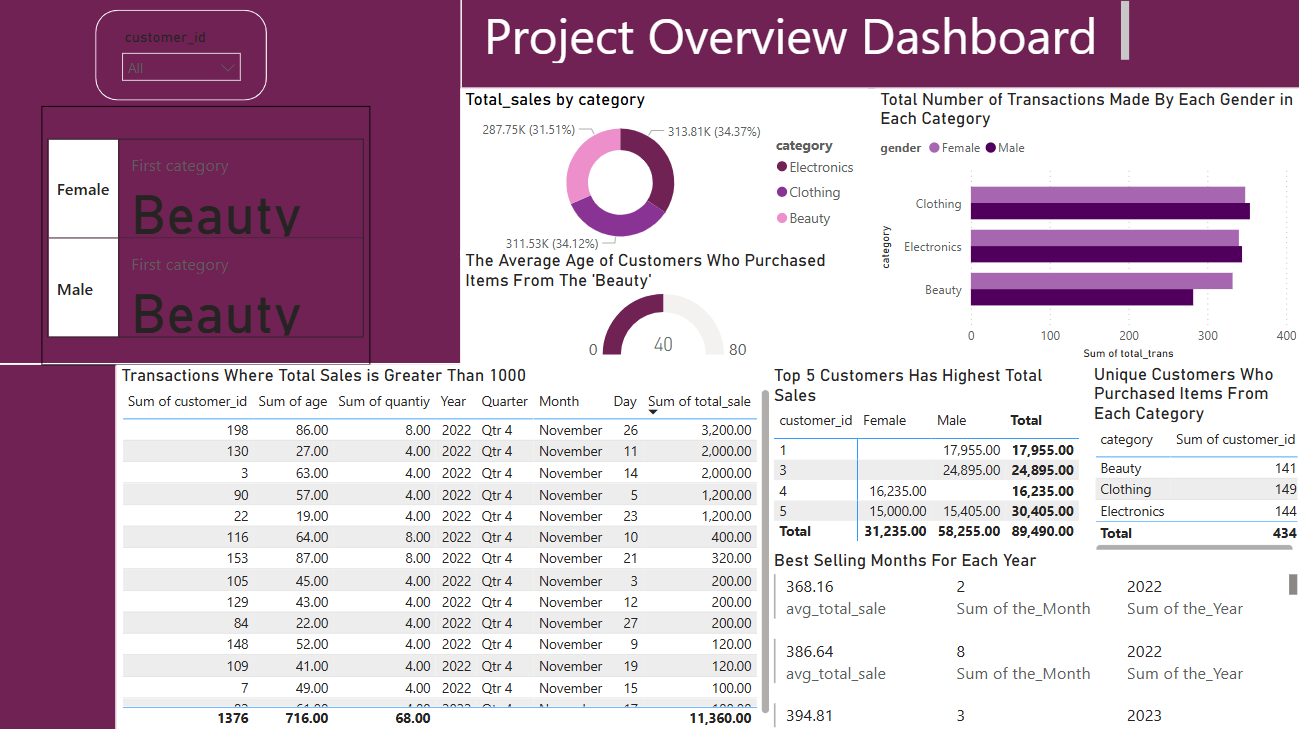

The page's visual inventory and layout, read from the dashboard file:
{"tool":"powerbi","page":{"name":"Dashboard","canvas":[1280,720],"ordinal":0},"visuals":[{"type":"shape","box":[0,0,119.7,720.7],"z":0},{"type":"shape","box":[0,0,1280,90.4],"z":1000},{"type":"shape","box":[0,0,457.7,360.3],"z":2000},{"type":"shape","box":[98.8,13.9,168.3,89],"z":3000},{"type":"slicer","fields":{"Values":["All Data.customer_id"]},"box":[115.5,26.4,136.3,64],"z":4000},{"type":"cardVisual","fields":{"Data":["Min(All Data.category)"],"Rows":["All Data.gender"]},"box":[45.9,107.1,321.4,253.2],"z":5000},{"type":"textbox","box":[474.5,0,640.8,70.9],"z":6000},{"type":"donutChart","fields":{"Category":["total sales for each category.category"],"Y":["Sum(total sales for each category.net_sal)"]},"box":[456.1,90.5,398.6,165.1],"z":7000},{"type":"gauge","title":"The Average Age of Customers Who Purchased Items From The ''Beauty''  ","fields":{"Y":["Sum(average age of customers who purchased items from the 'Beauty' category.average_age)"]},"box":[456.3,247.7,406.3,112.7],"z":8000},{"type":"clusteredBarChart","title":"Total Number of Transactions Made By Each Gender in Each Category","fields":{"Category":["total number of transactions made by each gender in each category.category"],"Series":["total number of transactions made by each gender in each category.gender"],"Y":["Sum(total number of transactions made by each gender in each category.total_trans)"]},"box":[862.6,90.4,417.4,269.9],"z":9000},{"type":"tableEx","title":"Transactions Where Total Sales is Greater Than 1000","fields":{"Values":["Sum(All transactions sold is equal or more than 4 in the month of Nov-2022.customer_id)","Sum(All transactions sold is equal or more than 4 in the month of Nov-2022.age)","Sum(All transactions sold is equal or more than 4 in the month of Nov-2022.quantiy)","All transactions sold is equal or more than 4 in the month of Nov-2022.sale_date.Variation.Date Hierarchy.Year","All transactions sold is equal or more than 4 in the month of Nov-2022.sale_date.Variation.Date Hierarchy.Quarter","All transactions sold is equal or more than 4 in the month of Nov-2022.sale_date.Variation.Date Hierarchy.Month","All transactions sold is equal or more than 4 in the month of Nov-2022.sale_date.Variation.Date Hierarchy.Day","Sum(All transactions sold is equal or more than 4 in the month of Nov-2022.total_sale)"]},"box":[119.7,360.3,644.2,360.3],"z":10000},{"type":"pivotTable","title":" Top 5 Customers Has Highest Total Sales","fields":{"Values":["Sum(top 5 customers on highest total sales.total_sales)"],"Columns":["top 5 customers on highest total sales.gender"],"Rows":["top 5 customers on highest total sales.customer_id"]},"box":[758.2,360.7,313,181],"z":11000},{"type":"tableEx","title":"Unique Customers Who Purchased Items From Each Category","fields":{"Values":["number of unique customers from each category.category","Sum(number of unique customers from each category.customer_id)"]},"box":[1071.2,359.5,209.1,190.8],"z":12000},{"type":"multiRowCard","title":"Best Selling Months For Each Year","fields":{"Values":["best selling month in each year.avg_total_sale","Sum(best selling month in each year.the_Month)","Sum(best selling month in each year.the_Year)"]},"box":[758.2,541.7,522.1,178.5],"z":13000}]}

Visuals, with their boxes in screenshot pixels (x1, y1, x2, y2), scaled from the page's 1280x720 canvas onto the 1299x729 screenshot:
shape: crop(0, 0, 121, 728)
shape: crop(0, 0, 1298, 92)
shape: crop(0, 0, 464, 365)
shape: crop(100, 14, 271, 104)
slicer - All Data.customer_id: crop(117, 27, 256, 92)
cardVisual - Min(All Data.category) x All Data.gender: crop(47, 108, 373, 365)
textbox: crop(482, 0, 1132, 72)
donutChart - total sales for each category.category x Sum(total sales for each category.net_sal): crop(463, 92, 867, 259)
"The Average Age of Customers Who Purchased Items From The ''Beauty''  " gauge: crop(463, 251, 875, 365)
"Total Number of Transactions Made By Each Gender in Each Category" clusteredBarChart: crop(875, 92, 1298, 365)
"Transactions Where Total Sales is Greater Than 1000" tableEx: crop(121, 365, 775, 728)
" Top 5 Customers Has Highest Total Sales" pivotTable: crop(769, 365, 1087, 548)
"Unique Customers Who Purchased Items From Each Category" tableEx: crop(1087, 364, 1298, 557)
"Best Selling Months For Each Year" multiRowCard: crop(769, 548, 1298, 728)
